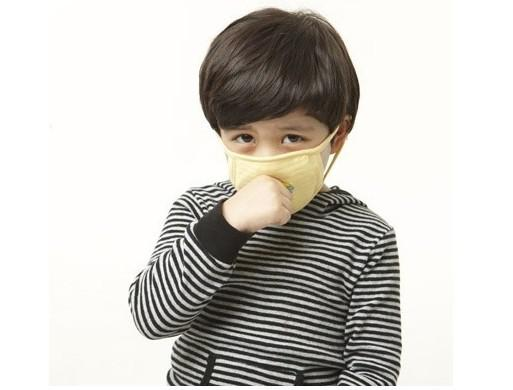OK: (226, 111, 335, 220)
